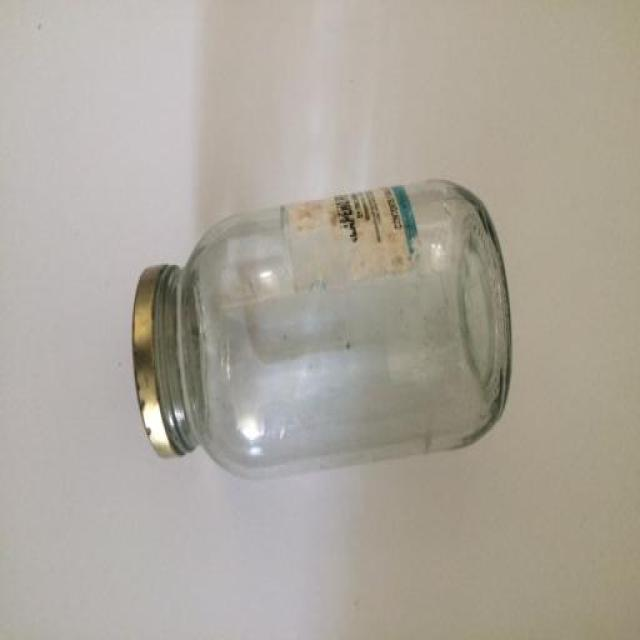glass: (130, 177, 514, 480)
